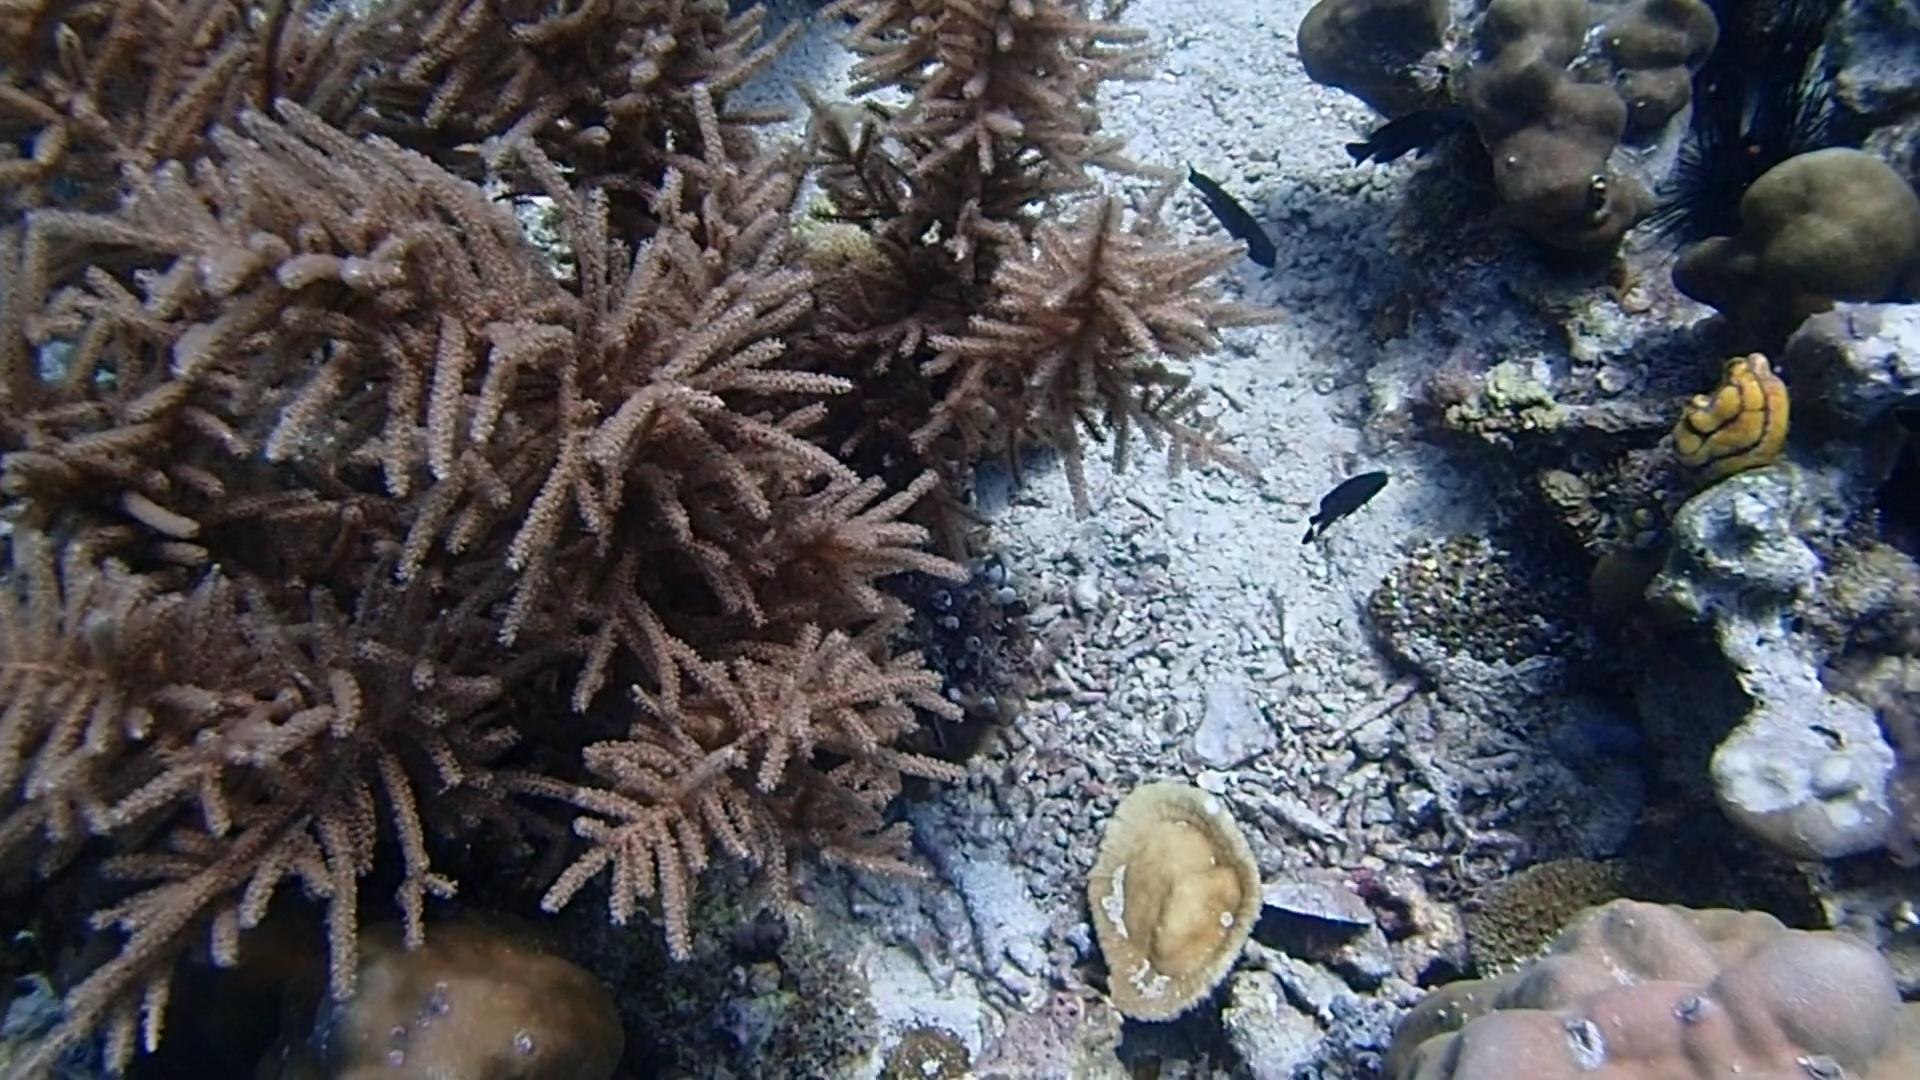Dark Fish: (1183, 160, 1280, 272), (1340, 98, 1449, 179), (1307, 462, 1396, 531)
